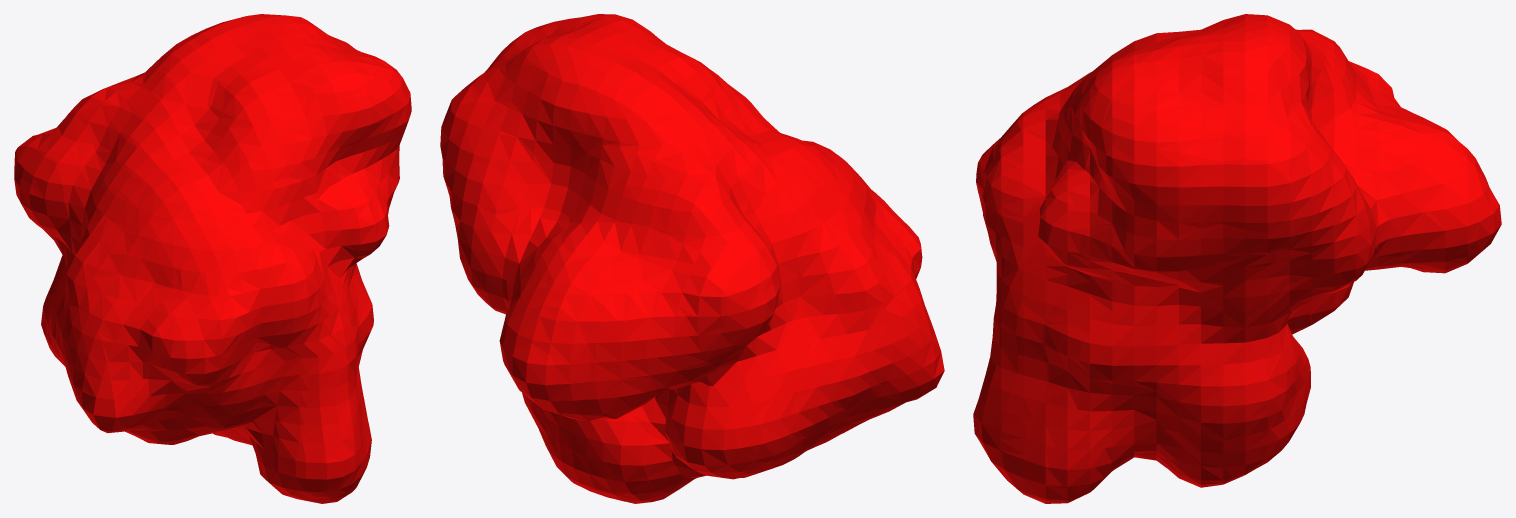
File: glpX_coarse.dae
3 views of the same model, side by side, from view 1: azimuth 30°, elevation 25°; view 2: azimuth 150°, elevation 25°; view 3: azimuth 270°, elevation 25° (orthographic). The views are drawn at different scales.
Visible parts, largest first — view 1: glpX; view 2: glpX; view 3: glpX.
Boxes of the visible parts, left/top/right/bottom form: glpX: left=14, top=14, right=411, bottom=503; glpX: left=440, top=14, right=944, bottom=503; glpX: left=973, top=14, right=1501, bottom=503.
Bounding box in the file's own units: 51.99 × 57.58 × 58.11.
